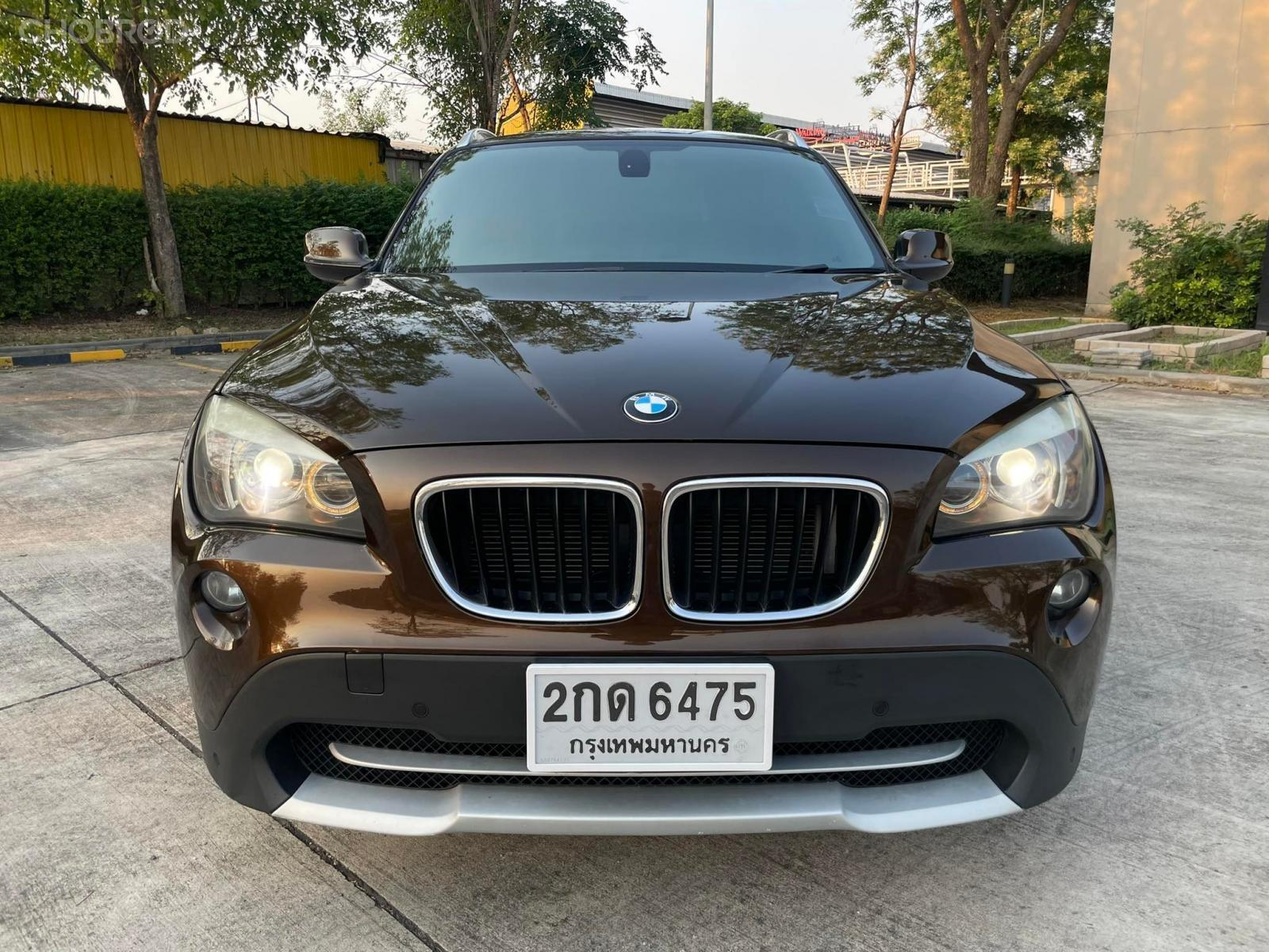license-plate: (523, 655, 777, 776)
